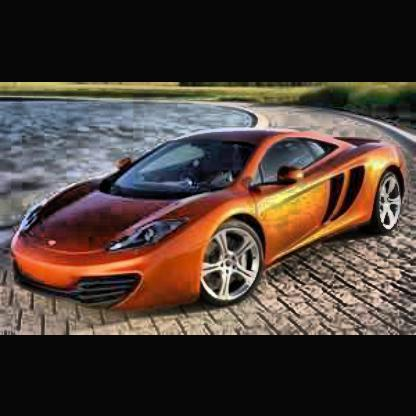McLaren MP4-12C Coupe 2012: (10, 127, 409, 318)
